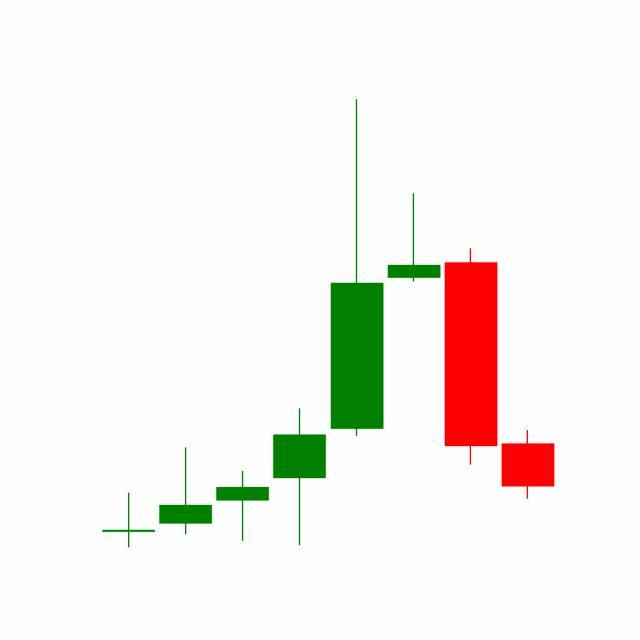Evening Star: (328, 99, 500, 469)
